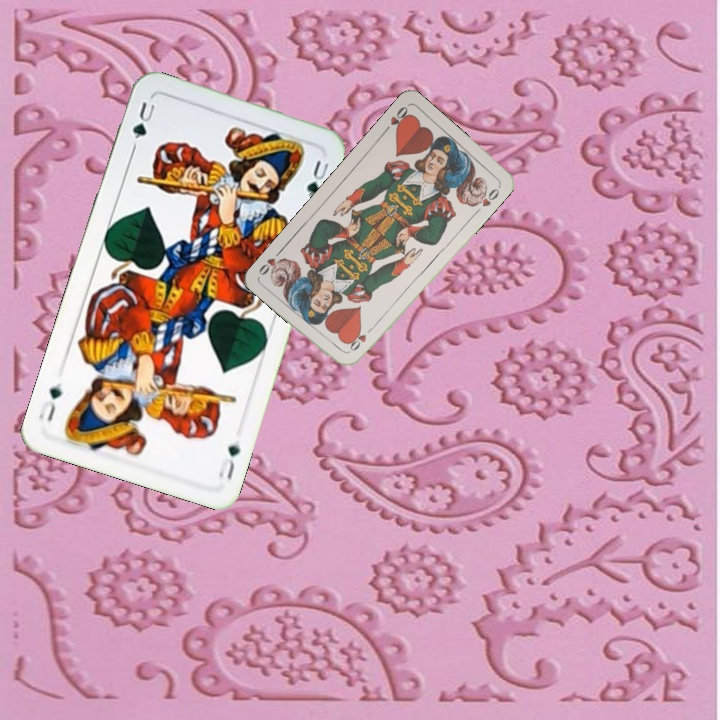GU: (128, 98, 159, 152), (214, 440, 243, 483)
HO: (379, 102, 412, 135), (345, 322, 376, 355)
